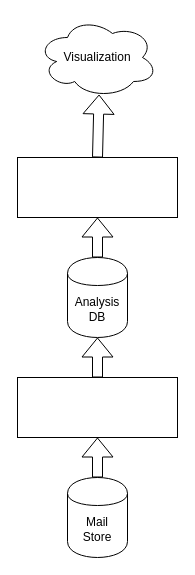
Some shapes in this 195 by 575 pixel diagram are drawn without their labels. The shapes that lost their labels are listed below. From the top down, each one's box as (x1, y1, x2, y2) in pixels, then its label:
(16, 156, 178, 218): Analysis Layer
(16, 376, 178, 438): Extraction Layer
